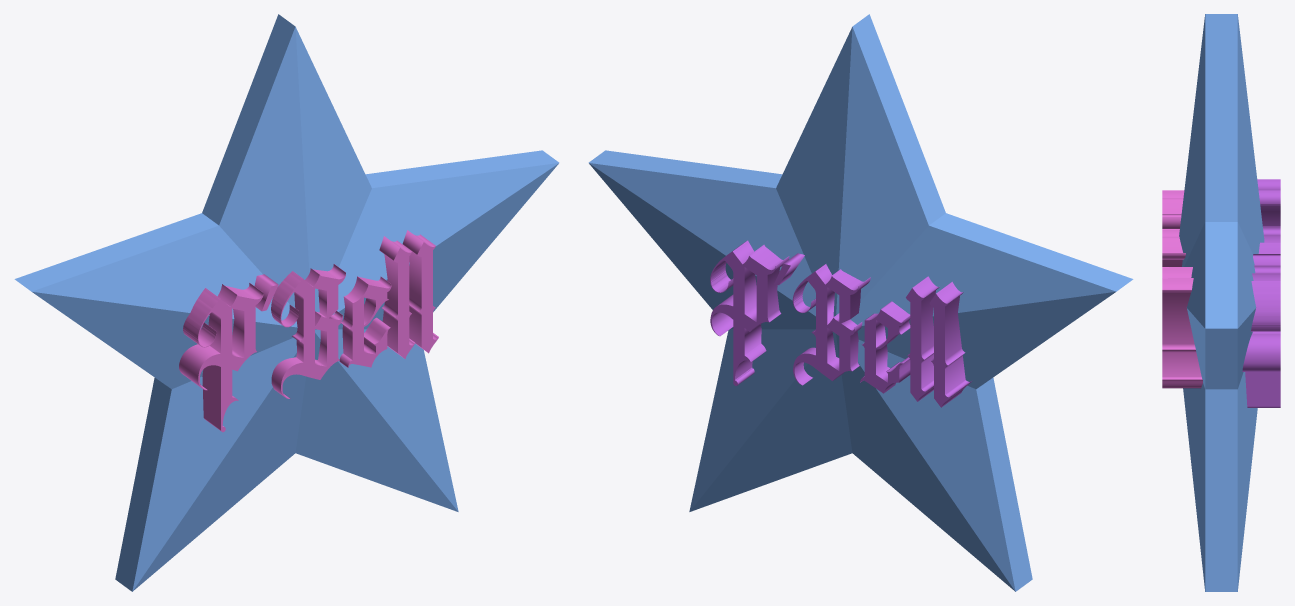
Rendered from PBellARModel.glb.
3 views of the same model, side by side, from view 1: azimuth 30°, elevation 25°; view 2: azimuth 150°, elevation 25°; view 3: azimuth 270°, elevation 25° (orthographic). The views are drawn at different scales.
Parts seen in each view (by area): view 1: Cylinder, Text.001; view 2: Cylinder, Text; view 3: Cylinder, Text, Text.001.
Boxes of the visible parts, x1=… form: Cylinder: x1=14, y1=14, x2=559, y2=591; Text.001: x1=179, y1=230, x2=438, y2=432; Cylinder: x1=588, y1=14, x2=1133, y2=591; Text: x1=710, y1=240, x2=971, y2=407; Cylinder: x1=1179, y1=14, x2=1264, y2=591; Text: x1=1242, y1=179, x2=1280, y2=407; Text.001: x1=1162, y1=190, x2=1202, y2=388.
Bounding box in the file's own units: 4.11 × 3.91 × 0.8329.
